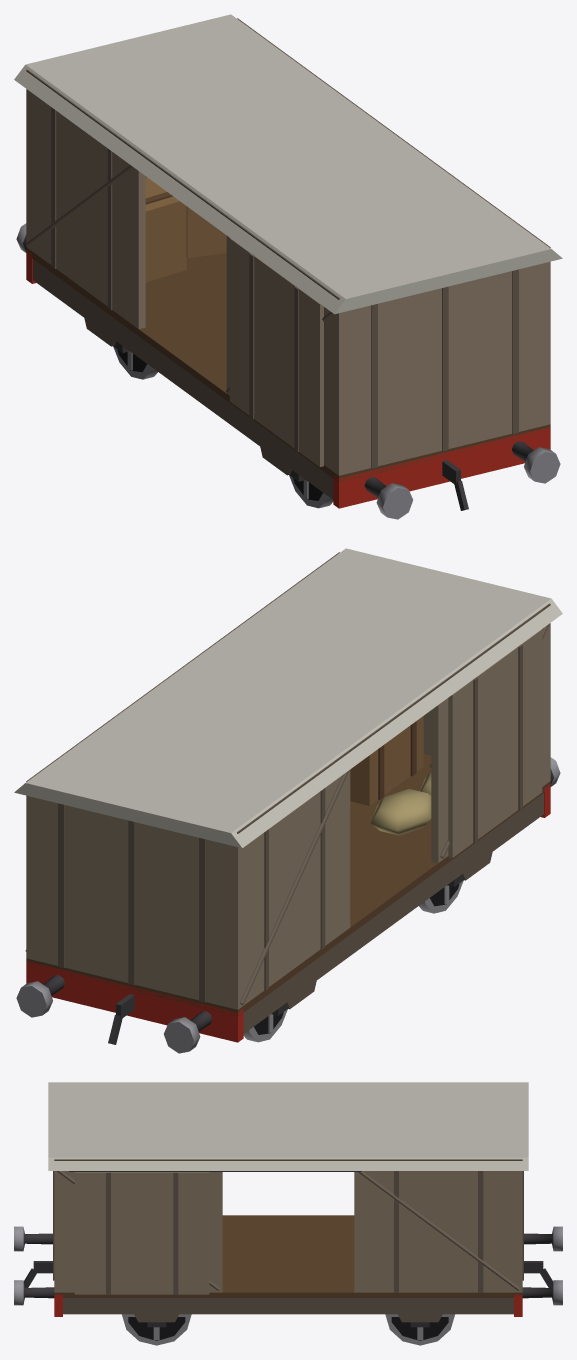
Rendered from van_goods.glb.
3 views of the same model, one above another, from view 1: azimuth 30°, elevation 25°; view 2: azimuth 150°, elevation 25°; view 3: azimuth 270°, elevation 25° (orthographic). The views are drawn at different scales.
Visible parts, largest first — view 1: Body, Wheel1, Wheel2; view 2: Body, Wheel2, Wheel1; view 3: Body, Wheel1, Wheel2.
Part boxes in pixels (<box>): Body: <box>14,14,562,519</box>; Wheel1: <box>113,346,157,379</box>; Wheel2: <box>289,475,333,508</box>; Body: <box>14,548,562,1053</box>; Wheel2: <box>419,880,463,913</box>; Wheel1: <box>243,1009,287,1042</box>; Body: <box>14,1082,562,1327</box>; Wheel1: <box>385,1314,454,1345</box>; Wheel2: <box>122,1314,191,1345</box>.
Size of the model in its own units: 2.7 by 3.02 by 7.5.
